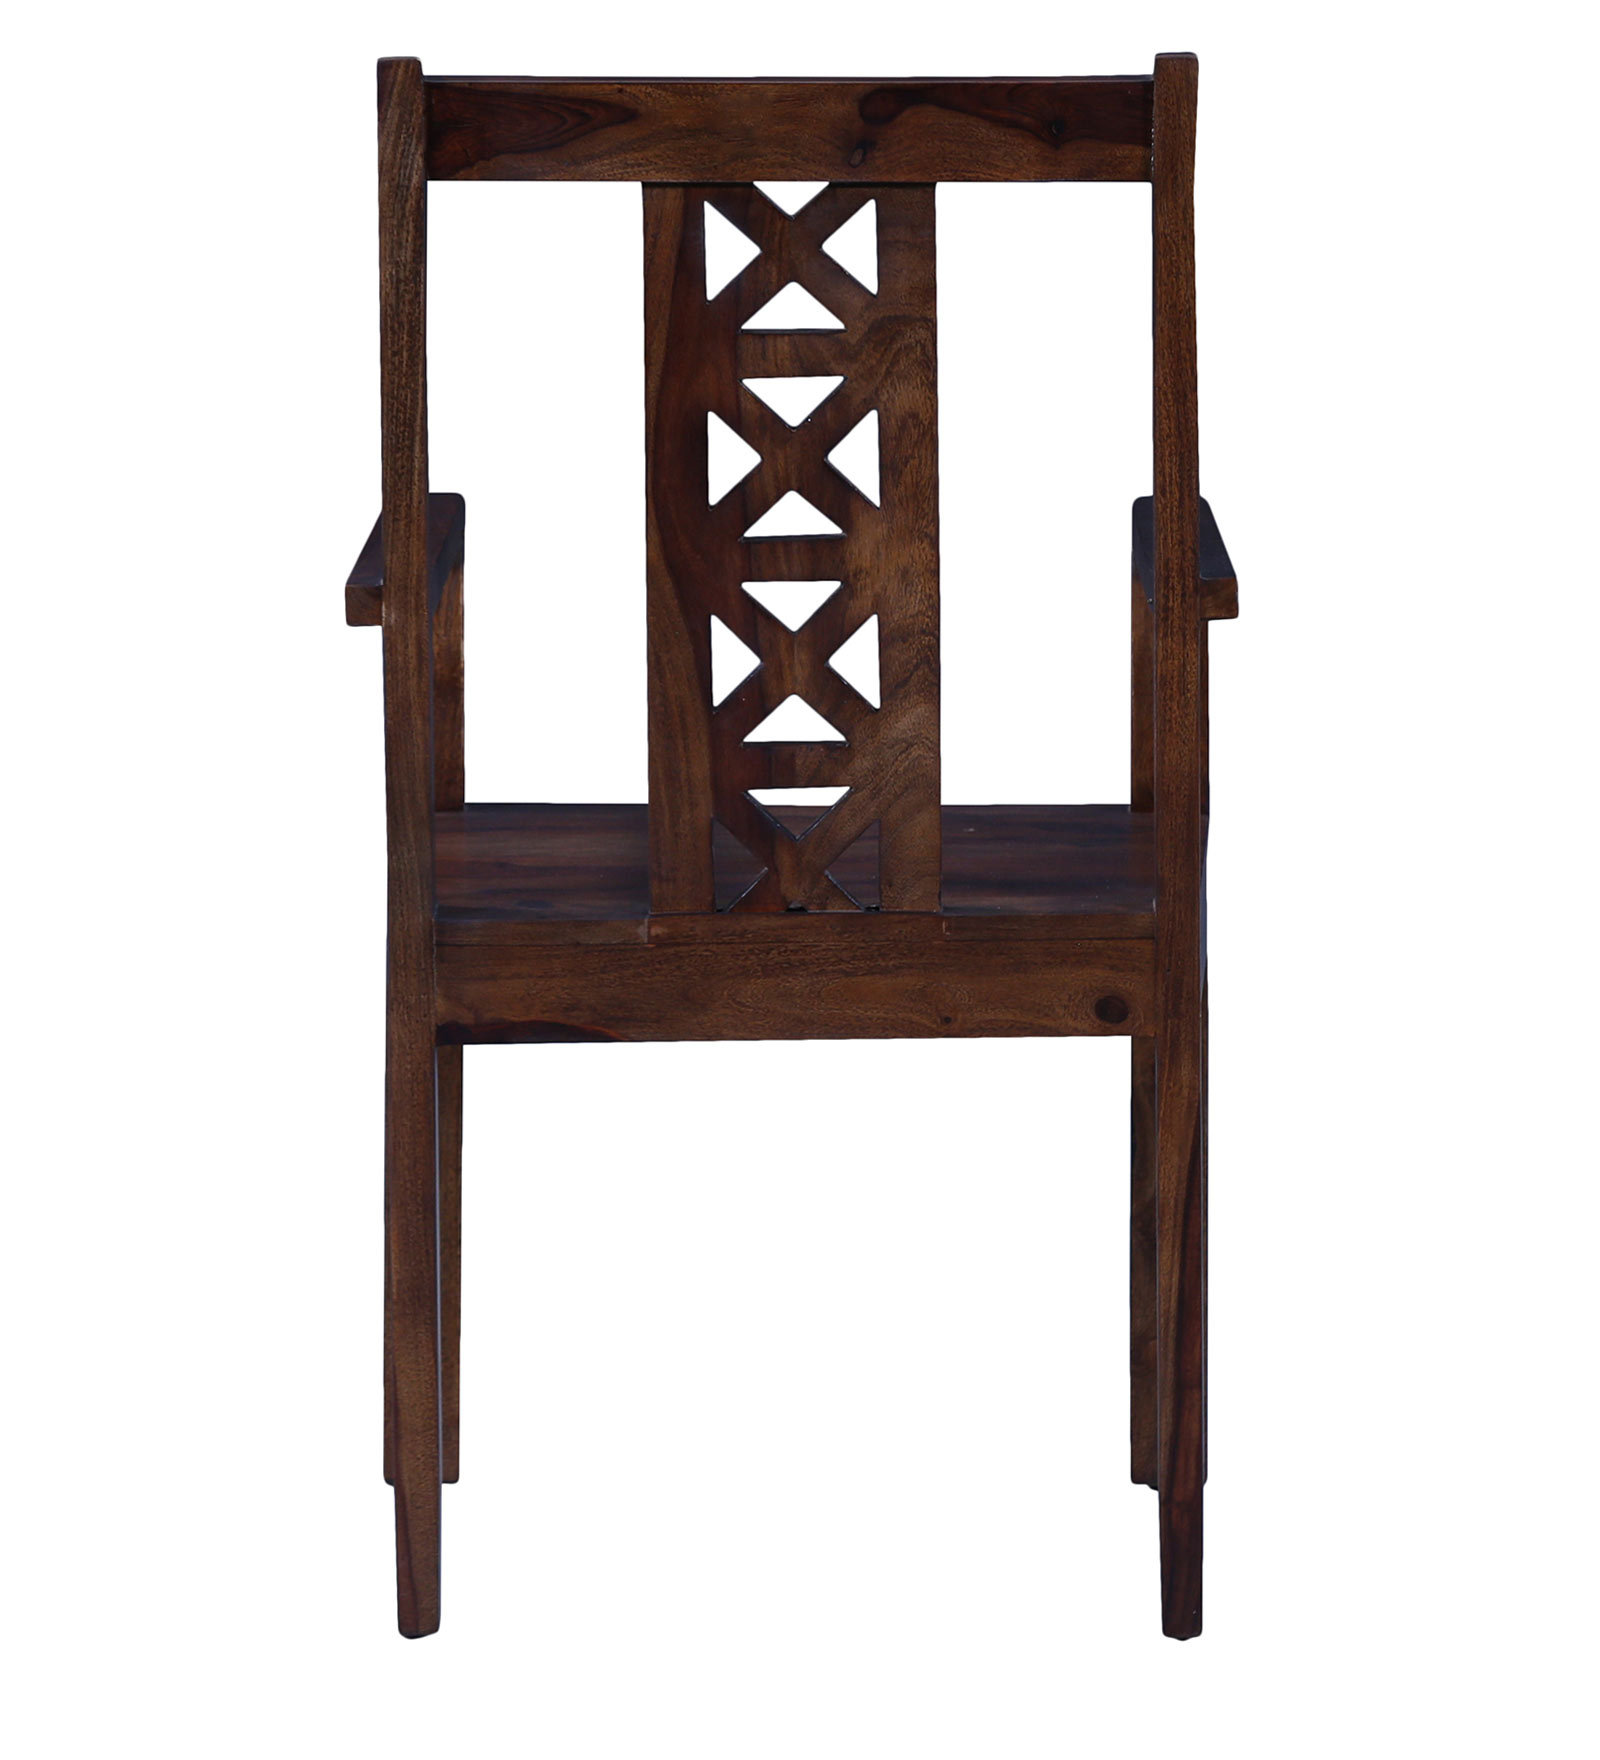Kryss Arm Chair in Provincial Teak Finish by Woodsworth: (279, 28, 1329, 1693)
